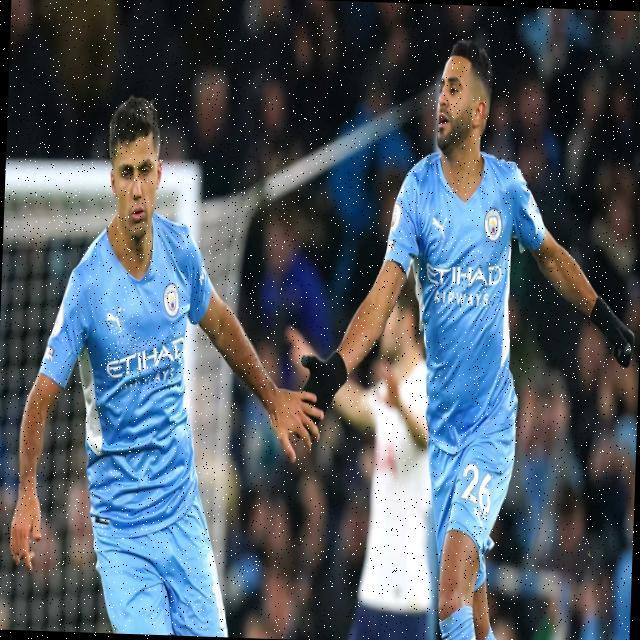Etihad Airways: (105, 335, 185, 391), (423, 260, 503, 310)
Puma: (104, 306, 125, 339), (429, 215, 447, 242), (472, 506, 487, 535)
